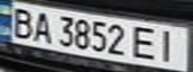2: (106, 20, 130, 57)
3: (51, 14, 75, 48)
5: (87, 19, 109, 54)
8: (72, 16, 93, 52)
A: (30, 9, 57, 44)
B: (6, 6, 36, 39)
E: (130, 24, 163, 62)
I: (154, 27, 187, 64)
